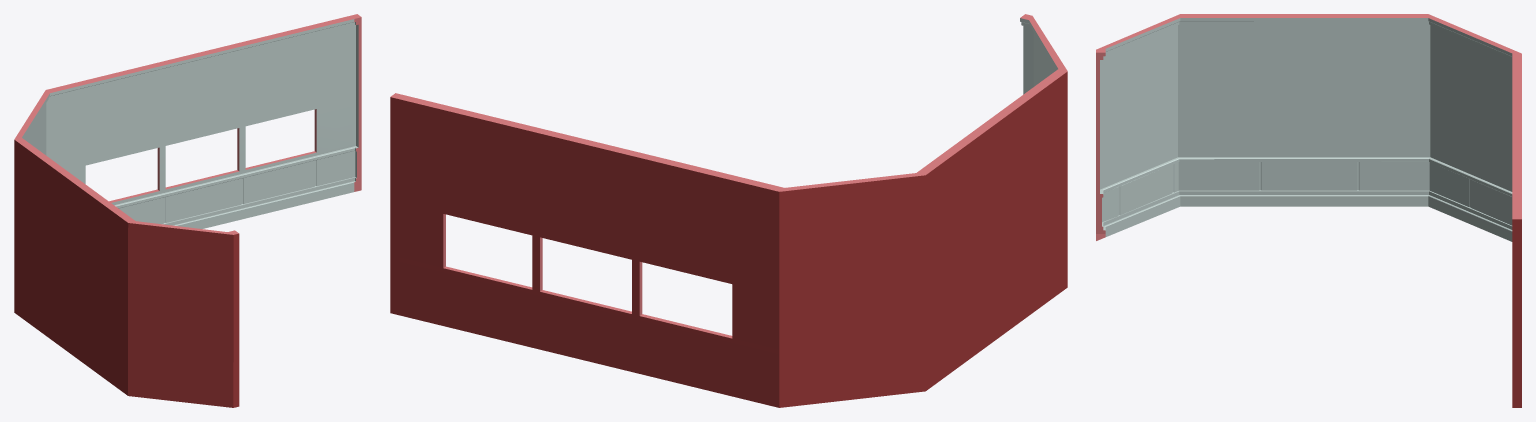
The model's file is SittingRoom_Wall.fbx.
3 views of the same model, side by side, from view 1: azimuth 30°, elevation 25°; view 2: azimuth 150°, elevation 25°; view 3: azimuth 270°, elevation 25° (orthographic). The views are drawn at different scales.
Visible parts, largest first — view 1: polySurface298; view 2: polySurface298; view 3: polySurface298.
Boxes of the visible parts, left/top/right/bottom form: polySurface298: left=14, top=14, right=361, bottom=407; polySurface298: left=390, top=14, right=1067, bottom=407; polySurface298: left=1096, top=14, right=1521, bottom=407.
Bounding box in the file's own units: 121 × 52.02 × 106.
